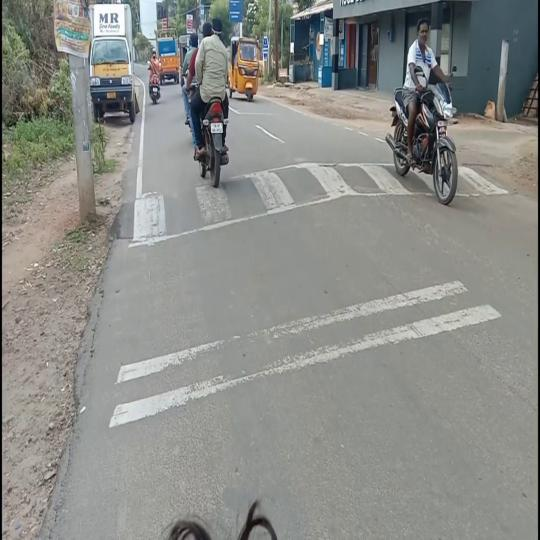Speed Bump: (111, 163, 432, 247), (458, 164, 510, 199)
